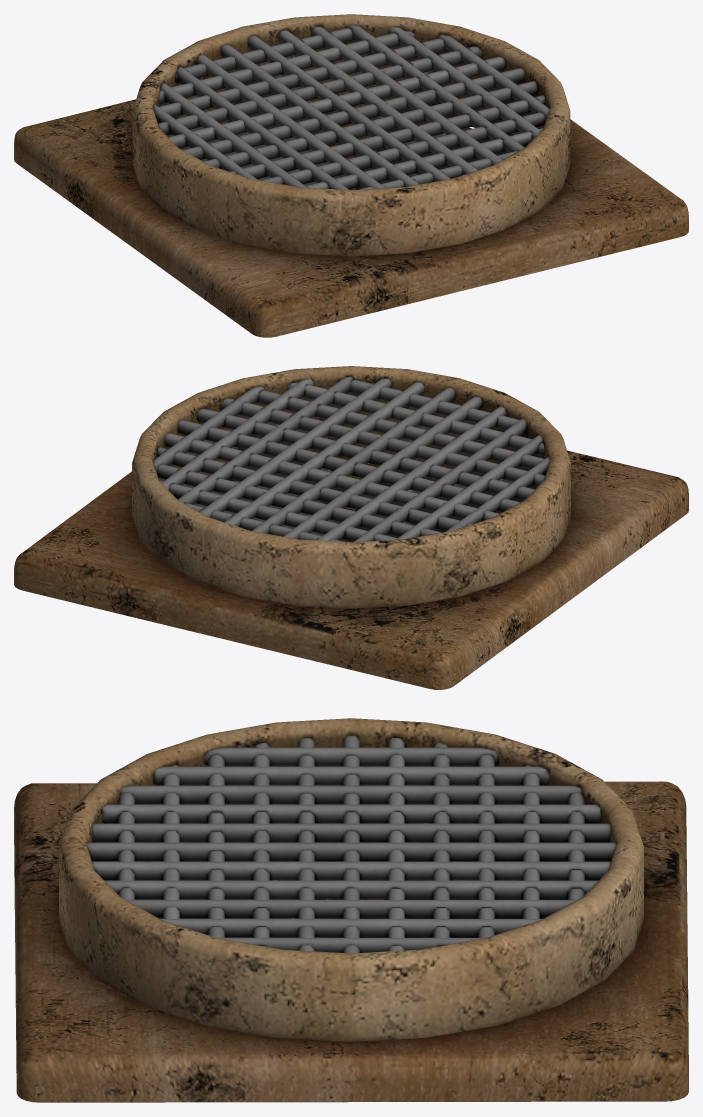
File: Obstacle-28.fbx
3 renders of one model, top to bottom at view 1: azimuth 30°, elevation 25°; view 2: azimuth 150°, elevation 25°; view 3: azimuth 270°, elevation 25°, orthographic. The views are drawn at different scales.
Visible parts, largest first — view 1: Obstacle-28-Cover-2, Obstacle-28-Fence, Obstacle-28-Cover, Obstacle-28; view 2: Obstacle-28-Cover-2, Obstacle-28-Fence, Obstacle-28-Cover, Obstacle-28; view 3: Obstacle-28-Fence, Obstacle-28-Cover-2, Obstacle-28-Cover, Obstacle-28.
Part boxes in pixels (box(x1,y1,x2,y2)): Obstacle-28-Cover-2: box(14, 99, 688, 337); Obstacle-28-Fence: box(153, 25, 549, 189); Obstacle-28-Cover: box(132, 14, 570, 256); Obstacle-28: box(172, 70, 525, 189); Obstacle-28-Cover-2: box(14, 450, 688, 689); Obstacle-28-Fence: box(153, 376, 550, 542); Obstacle-28-Cover: box(132, 366, 570, 608); Obstacle-28: box(177, 422, 536, 542); Obstacle-28-Fence: box(86, 735, 616, 953); Obstacle-28-Cover-2: box(14, 781, 688, 1102); Obstacle-28-Cover: box(59, 718, 643, 1041); Obstacle-28: box(112, 785, 597, 937).
Bounding box in the file's own units: 1.5 × 0.3 × 1.5.
